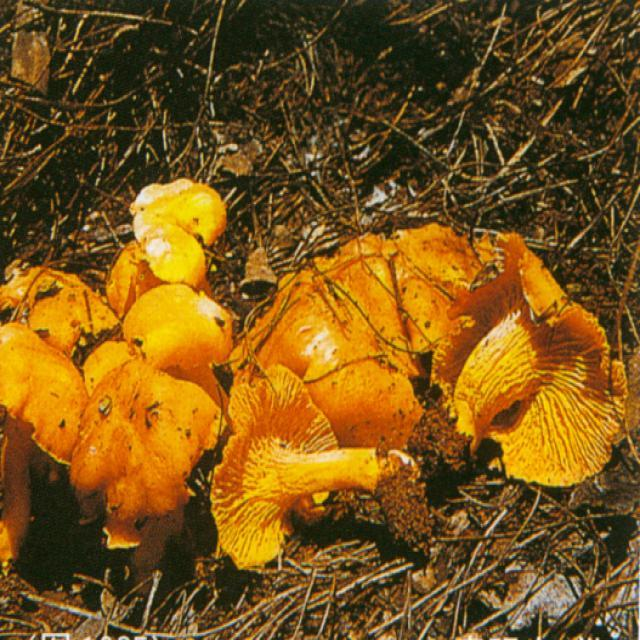Cantharellus cibarius: (0, 262, 232, 560), (432, 234, 622, 497), (215, 369, 426, 570), (118, 174, 227, 280)
